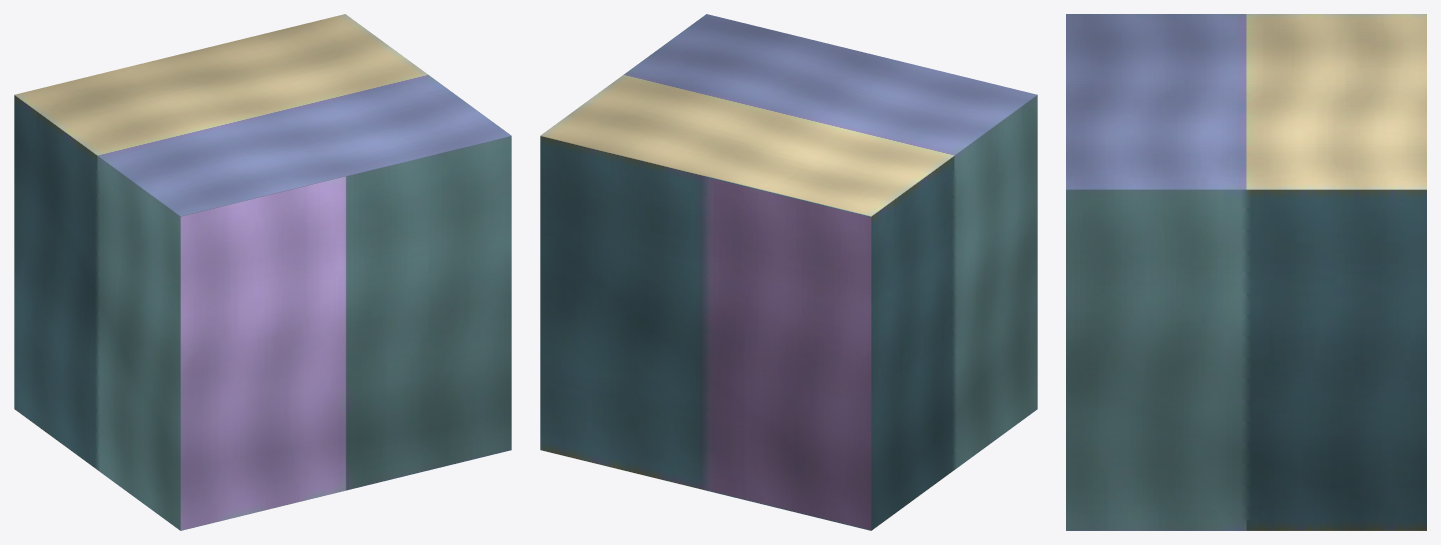
Rendered from mushroom_glow_a.glb.
3 renders of one model, left to right at view 1: azimuth 30°, elevation 25°; view 2: azimuth 150°, elevation 25°; view 3: azimuth 270°, elevation 25°, orthographic. The views are drawn at different scales.
Parts seen in each view (by area): view 1: col; view 2: col; view 3: col.
Part boxes in pixels (x1,y1,x2,y2): col: (14, 14, 511, 530); col: (540, 14, 1037, 530); col: (1066, 14, 1426, 530).
Size of the model in its own units: 1.3 by 1.18 by 1.13.
1 material, 1 textured.
